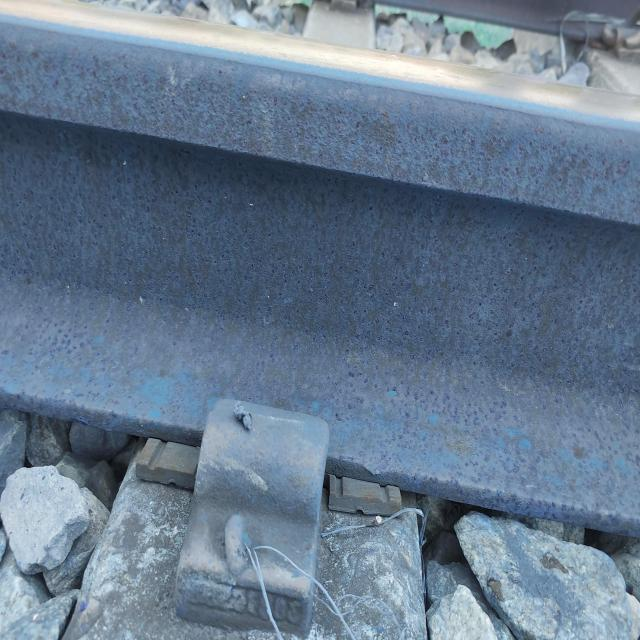Missing Fastener: (156, 392, 351, 633)
